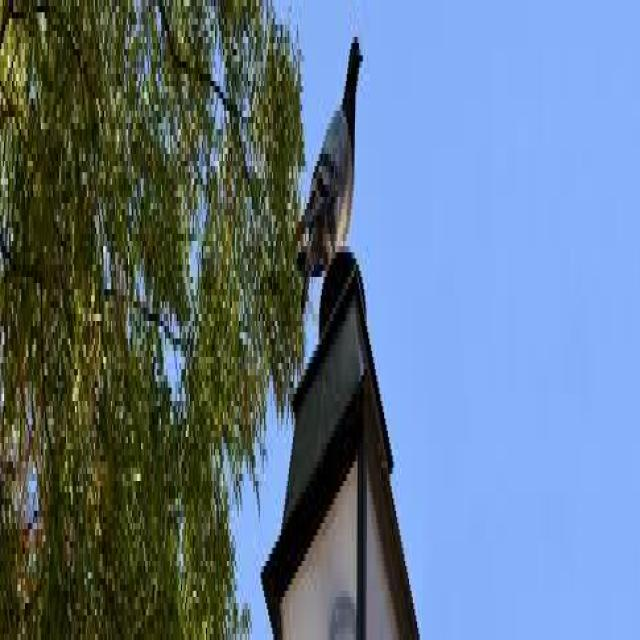pigeon: (290, 25, 365, 291)
